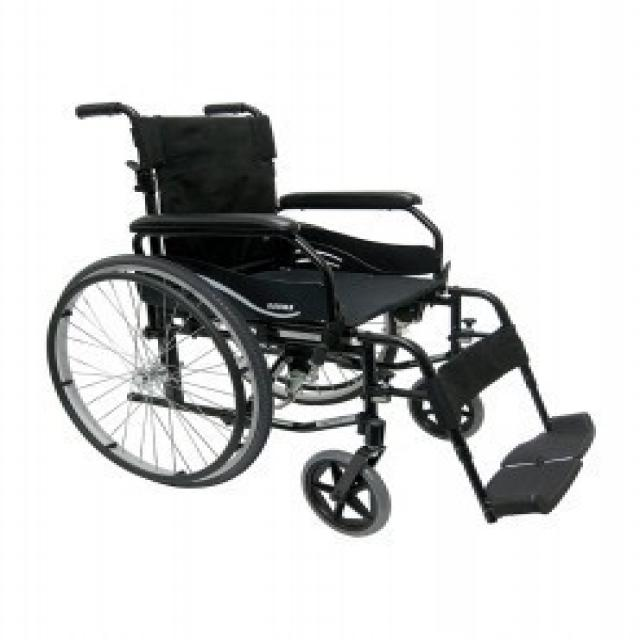wheelchair: (42, 89, 609, 561)
